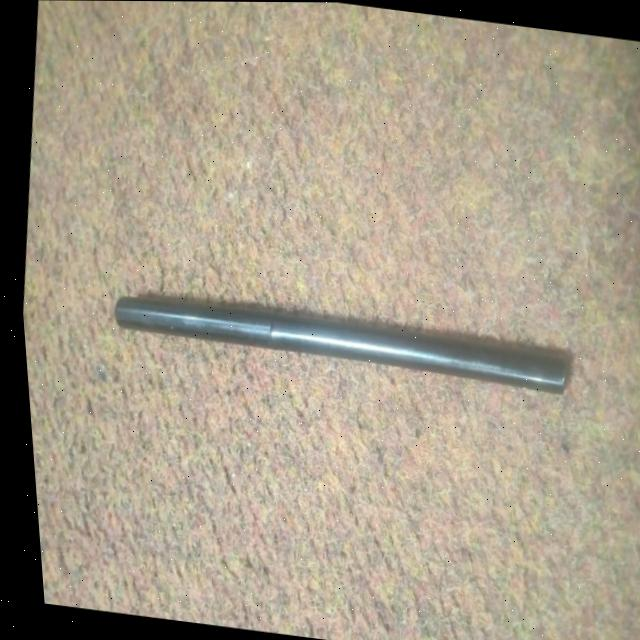eye liner: (91, 255, 589, 402)
